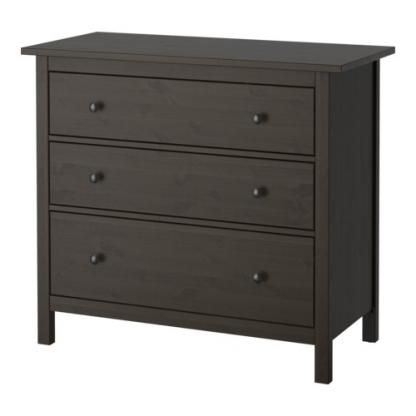Cabinet: (17, 25, 399, 390)
